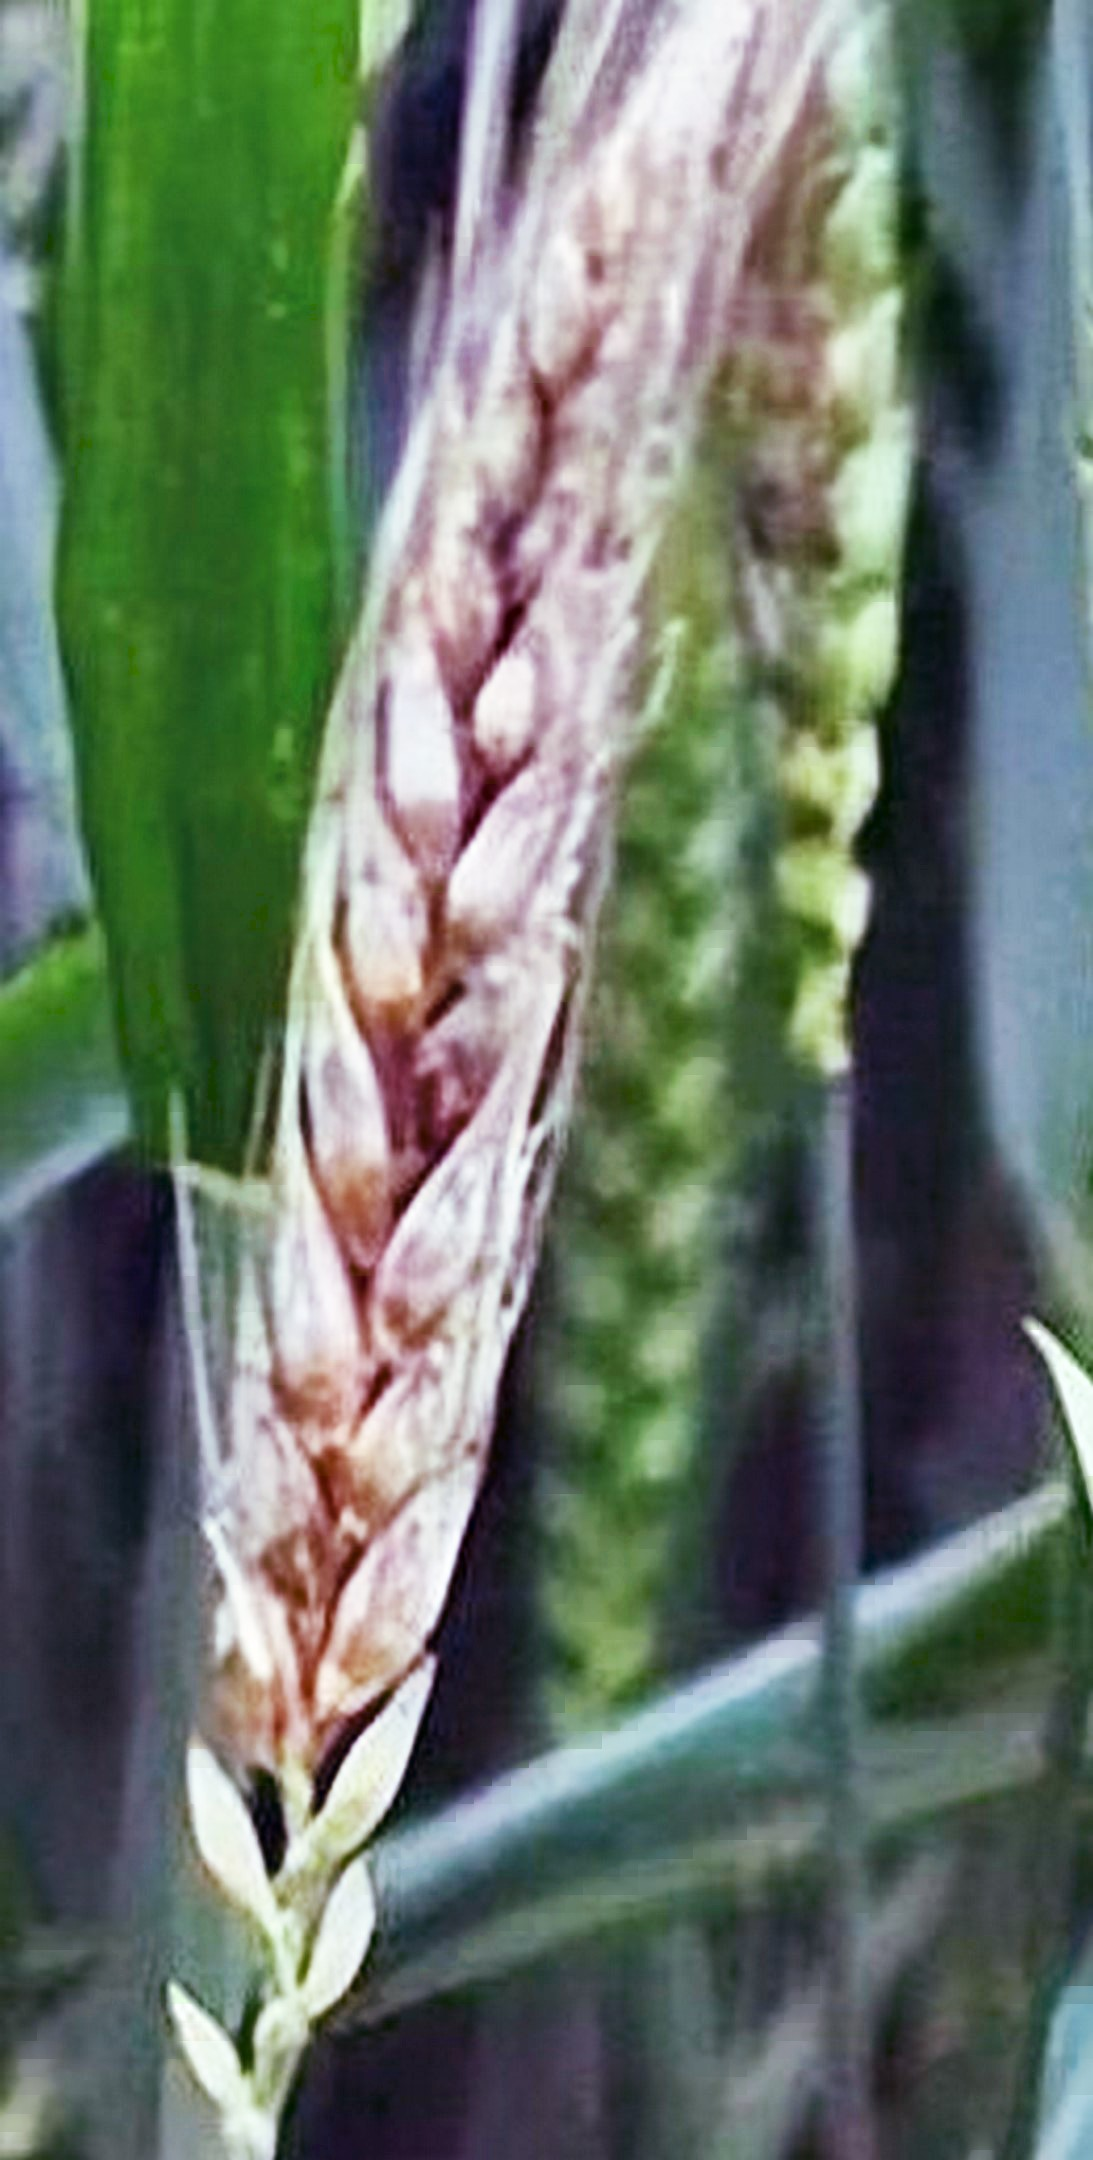Wheat scab: (170, 117, 731, 1897)
